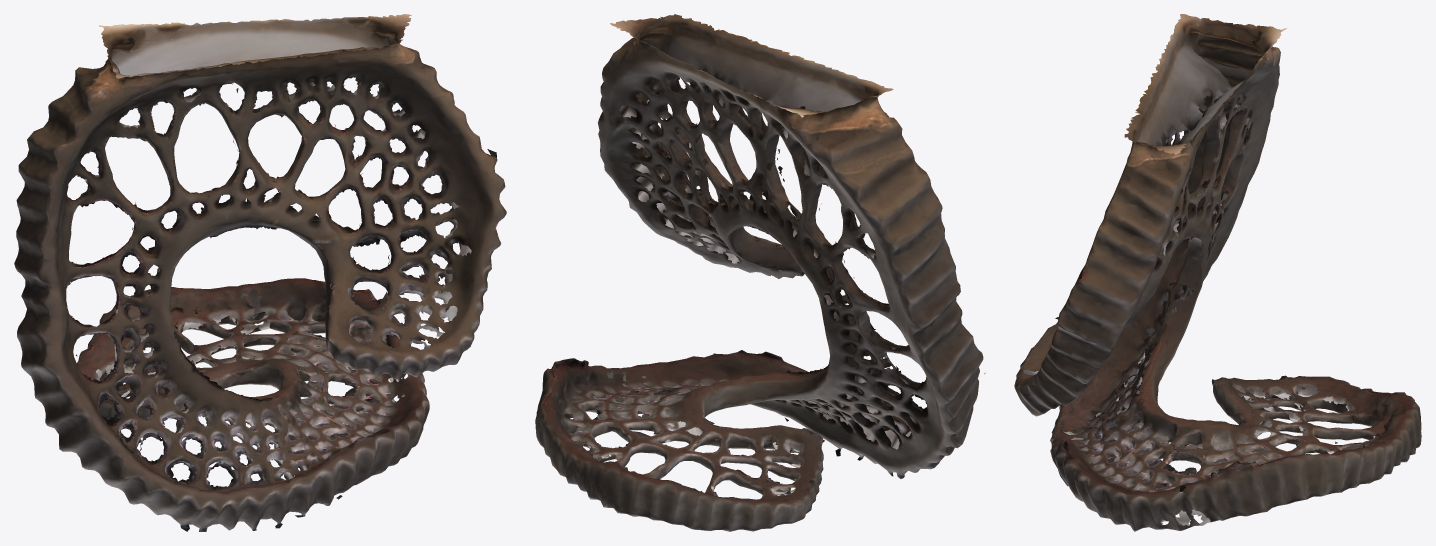
Rendered from vulcanMesh03.fbx.
3 views of the same model, side by side, from view 1: azimuth 30°, elevation 25°; view 2: azimuth 150°, elevation 25°; view 3: azimuth 270°, elevation 25° (orthographic). The views are drawn at different scales.
Visible parts, largest first — view 1: Model; view 2: Model; view 3: Model.
Boxes of the visible parts, bbox=[...] form: Model: bbox=[14, 14, 506, 531]; Model: bbox=[535, 14, 985, 531]; Model: bbox=[1014, 14, 1421, 531].
Size of the model in its own units: 3.08 by 3.13 by 2.75.
